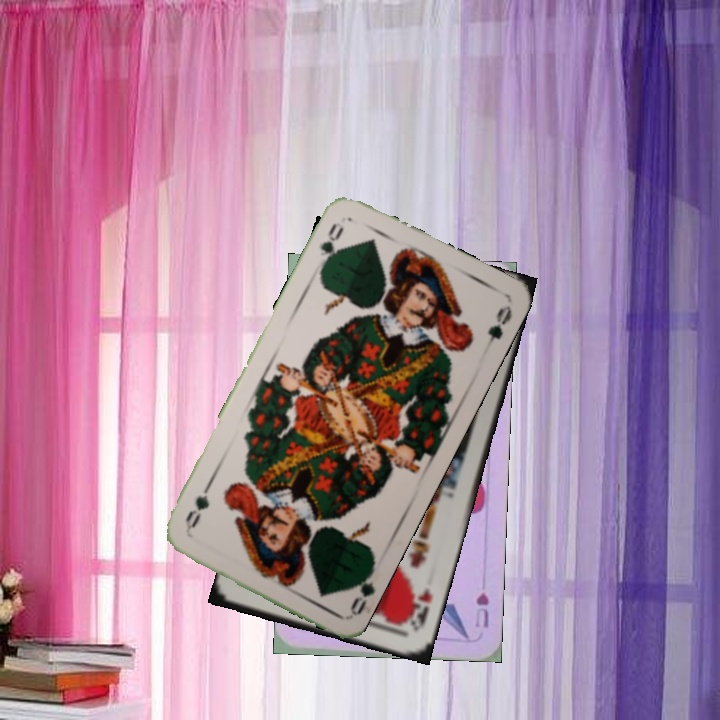GO: (345, 560, 377, 617), (315, 219, 346, 273)
HK: (403, 584, 435, 634)
HU: (471, 588, 492, 630)
